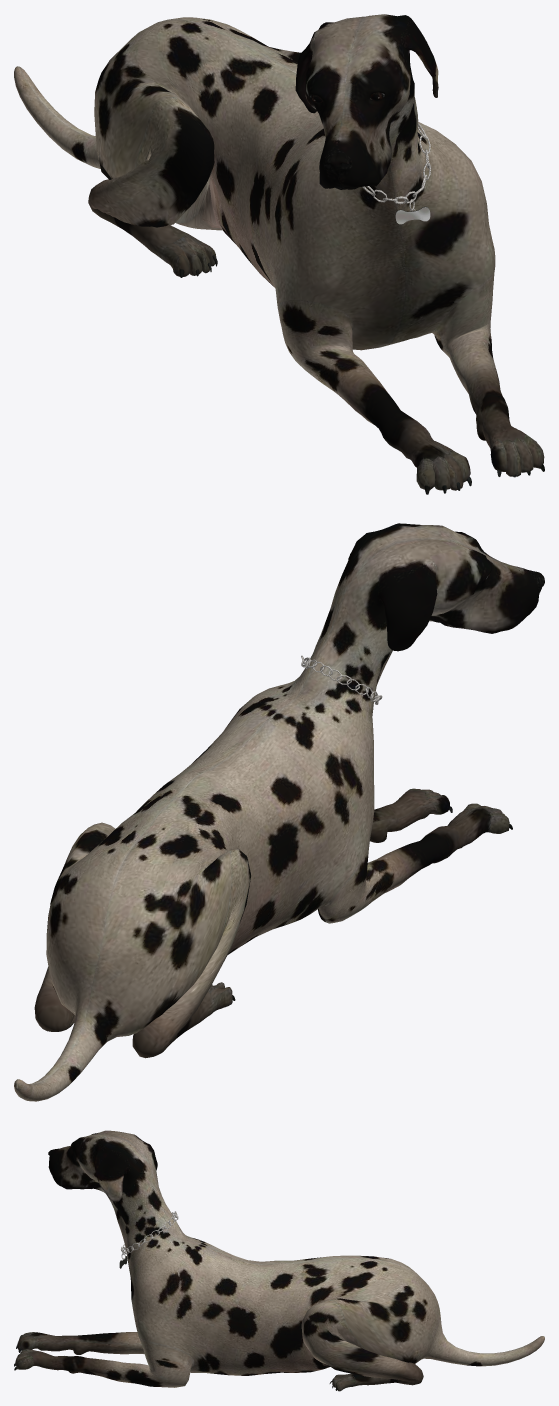
File: dog.obj
The picture shows the model from 3 angles, top to bottom: view 1: azimuth 30°, elevation 25°; view 2: azimuth 150°, elevation 25°; view 3: azimuth 270°, elevation 25°; orthographic projection. The views are drawn at different scales.
Parts seen in each view (by area): view 1: 029_Vray; view 2: 029_Vray; view 3: 029_Vray.
Part boxes in pixels (<box>): 029_Vray: <box>14,14,544,494</box>; 029_Vray: <box>14,523,544,1101</box>; 029_Vray: <box>14,1130,544,1391</box>.
Bounding box in the file's own units: 441 × 616 × 1369.
1 material, 1 textured.
